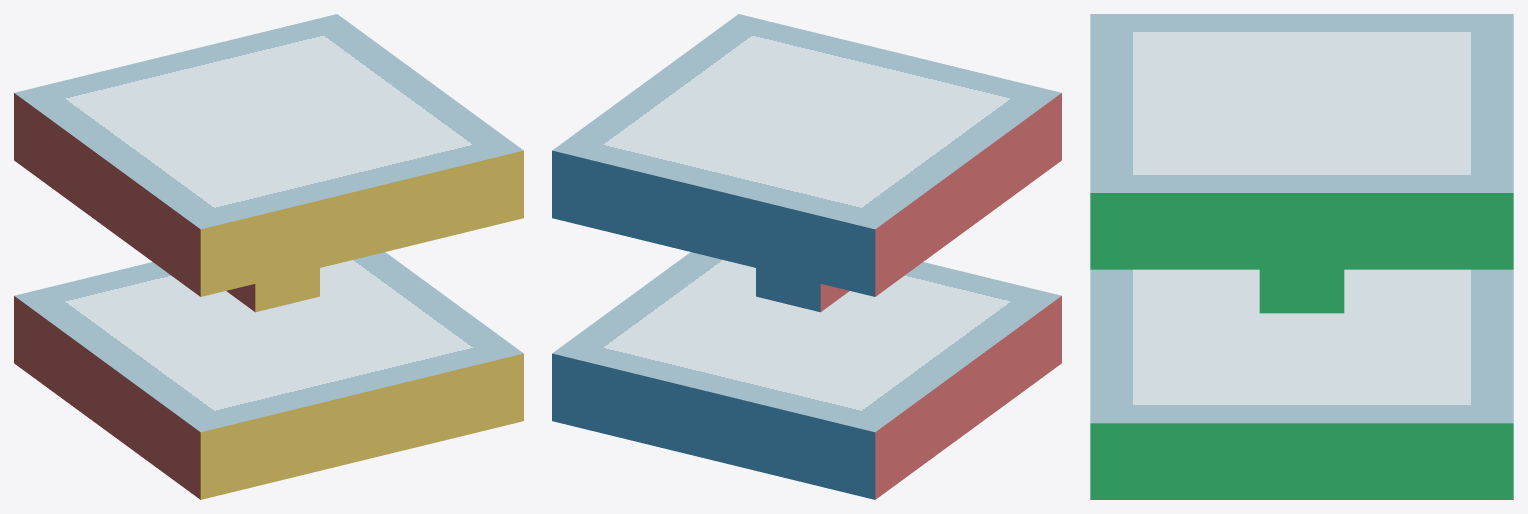
The picture shows the model from 3 angles, left to right: view 1: azimuth 30°, elevation 25°; view 2: azimuth 150°, elevation 25°; view 3: azimuth 270°, elevation 25°; orthographic projection. The views are drawn at different scales.
Visible parts, largest first — view 1: cube (×3); view 2: cube (×3); view 3: cube (×3).
Part boxes in pixels (x1=…): cube (×3): x1=14, y1=14, x2=523, y2=499; cube (×3): x1=552, y1=14, x2=1061, y2=499; cube (×3): x1=1090, y1=14, x2=1513, y2=499.
Bounding box in the file's own units: 0.625 × 0.5 × 0.625.
1 material, 1 textured.
